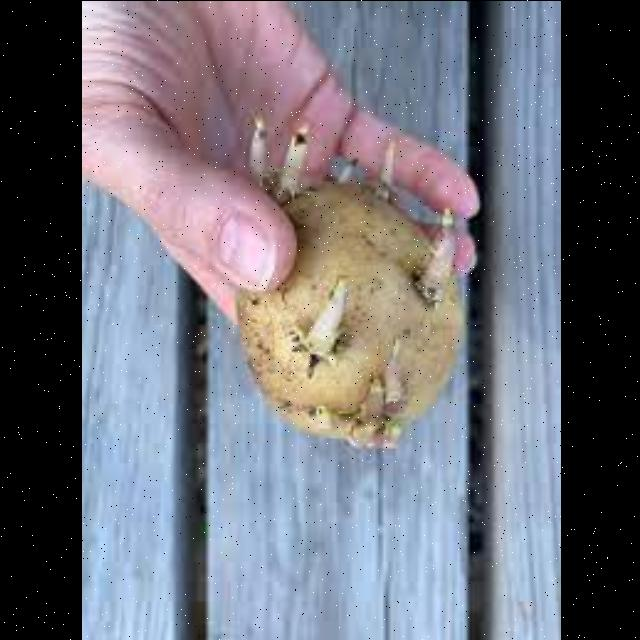Sprouted potato: (194, 84, 486, 466)
